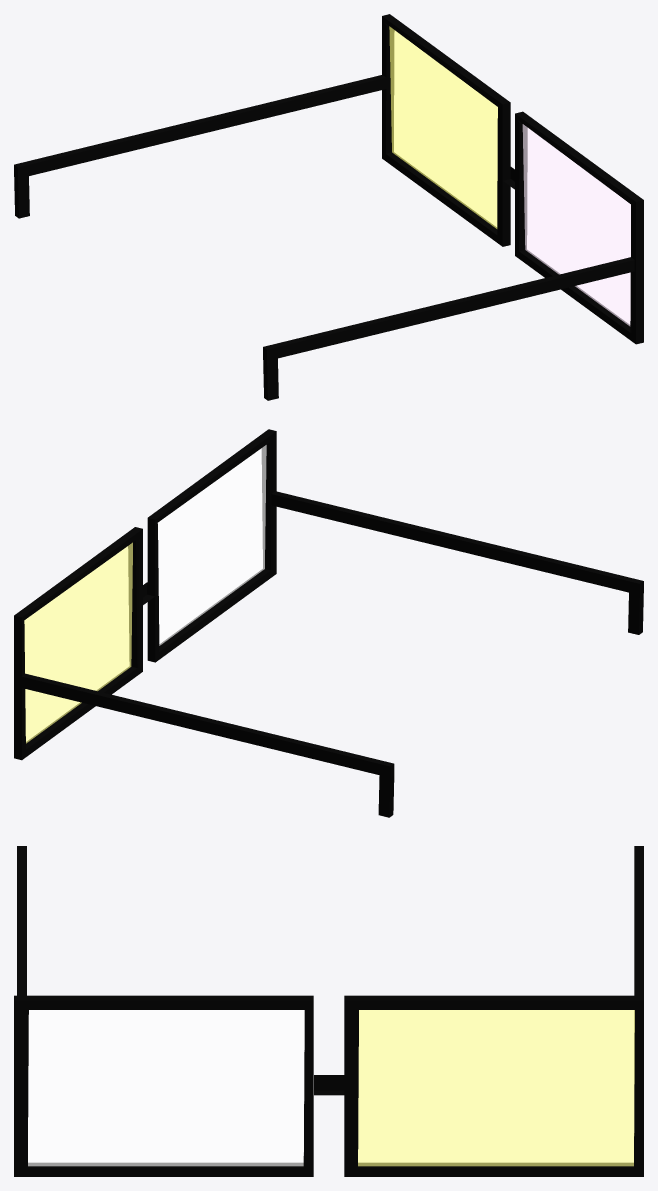
The model's file is dealmakers glasses.fbx.
The picture shows the model from 3 angles, top to bottom: view 1: azimuth 30°, elevation 25°; view 2: azimuth 150°, elevation 25°; view 3: azimuth 270°, elevation 25°; orthographic projection. The views are drawn at different scales.
Parts seen in each view (by area): view 1: Plane.001; view 2: Plane.001; view 3: Plane.001.
Part boxes in pixels (box(x1,y1,x2,y2)): Plane.001: box(14, 14, 643, 400); Plane.001: box(14, 429, 643, 817); Plane.001: box(14, 846, 643, 1176).
Size of the model in its own units: 204 by 73.81 by 239.
